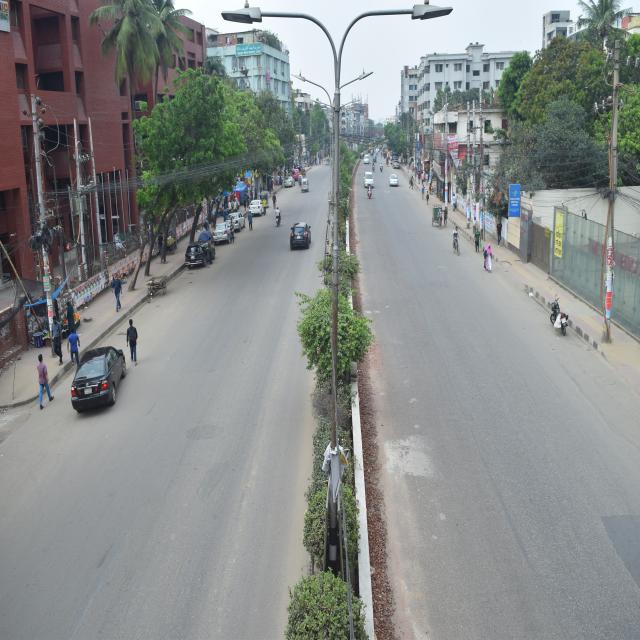car: (74, 342, 121, 408), (174, 230, 227, 271), (228, 197, 245, 242), (290, 222, 314, 252), (208, 211, 228, 244), (250, 193, 266, 214), (363, 170, 377, 193), (387, 170, 401, 188), (284, 172, 302, 185), (364, 154, 372, 168)
motorbike: (549, 303, 571, 338), (271, 196, 281, 234), (365, 176, 375, 202)
